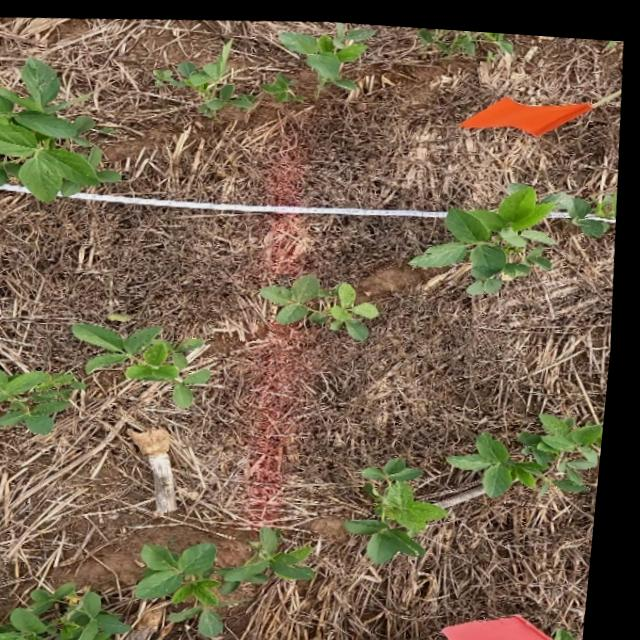soy_plant: (415, 175, 612, 287), (147, 522, 324, 632), (0, 56, 122, 199), (458, 406, 611, 488), (81, 323, 217, 404), (355, 452, 457, 557), (0, 582, 137, 640), (155, 36, 257, 113), (266, 269, 384, 334), (0, 364, 94, 432), (279, 18, 374, 84), (418, 22, 513, 48), (262, 68, 305, 96)
